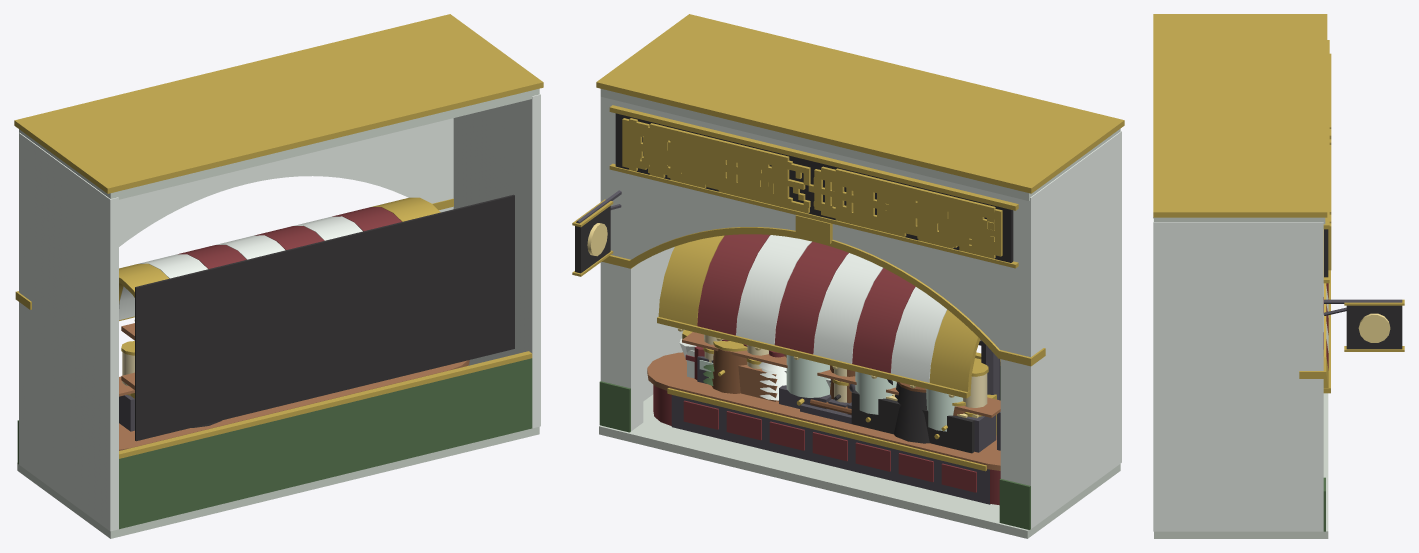
The model's file is downs-stalls.glb.
3 renders of one model, left to right at view 1: azimuth 30°, elevation 25°; view 2: azimuth 150°, elevation 25°; view 3: azimuth 270°, elevation 25°, orthographic. The views are drawn at different scales.
Parts seen in each view (by area): view 1: dn_stall_0_mint, dn_stall_0_gold, dn_stall_0_black, dn_stall_1_black, dn_stall_3_black, dn_stall_0_money2, dn_stall_6_money2, dn_stall_5_black, dn_stall_2_black, dn_stall_0_mint2, dn_stall_11_money2, dn_stall_0_accent (+2 smaller); view 2: dn_stall_0_mint, dn_stall_0_gold, dn_stall_0_accent, dn_stall_0_mint2, dn_stall_0_black2, dn_stall_1_gold, dn_stall_10_saddle, dn_stall_4_gold, dn_stall_6_glowmint, dn_stall_11_accent, dn_stall_3_black, dn_stall_11_gold (+18 smaller); view 3: dn_stall_0_mint, dn_stall_0_gold, dn_stall_0_mint2, dn_stall_0_black, dn_stall_0_glowgold, dn_stall_5_glowgold, dn_stall_1_glowgold, dn_stall_0_black2.
Part boxes in pixels (x1,y1,x2,y2): dn_stall_0_mint: (19,94,540,531); dn_stall_0_gold: (14,14,543,458); dn_stall_0_black: (135,196,514,440); dn_stall_1_black: (135,198,514,436); dn_stall_3_black: (135,194,514,440); dn_stall_0_money2: (119,358,532,528); dn_stall_6_money2: (17,375,532,528); dn_stall_5_black: (135,214,514,428); dn_stall_2_black: (135,207,491,441); dn_stall_0_mint2: (17,88,539,538); dn_stall_11_money2: (17,359,531,528); dn_stall_0_accent: (178,207,401,268); dn_stall_0_mint: (600,97,1121,528); dn_stall_0_gold: (572,14,1124,471); dn_stall_0_accent: (653,234,999,505); dn_stall_0_mint2: (599,89,1120,538); dn_stall_0_black2: (576,190,990,504); dn_stall_1_gold: (622,125,1002,339); dn_stall_10_saddle: (647,339,1000,465); dn_stall_4_gold: (622,118,1002,416); dn_stall_6_glowmint: (786,355,962,431); dn_stall_11_accent: (653,249,1000,502); dn_stall_3_black: (576,124,1011,443); dn_stall_11_gold: (649,123,972,430); dn_stall_0_mint: (1153,218,1328,531); dn_stall_0_gold: (1153,14,1404,393); dn_stall_0_mint2: (1154,217,1328,538); dn_stall_0_black: (1324,229,1402,349); dn_stall_0_glowgold: (1359,314,1390,342); dn_stall_5_glowgold: (1359,315,1390,342); dn_stall_1_glowgold: (1358,313,1390,342); dn_stall_0_black2: (1323,299,1402,315).
Bounding box in the file's own units: 10.12 × 7.8 × 5.42.
